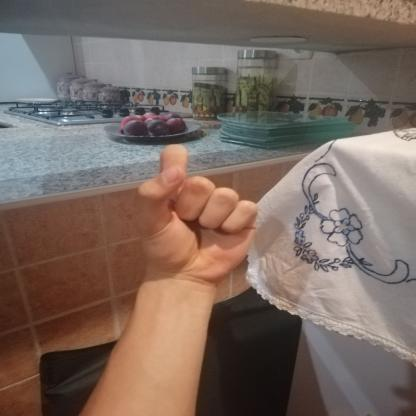FAA: (121, 134, 266, 293)
